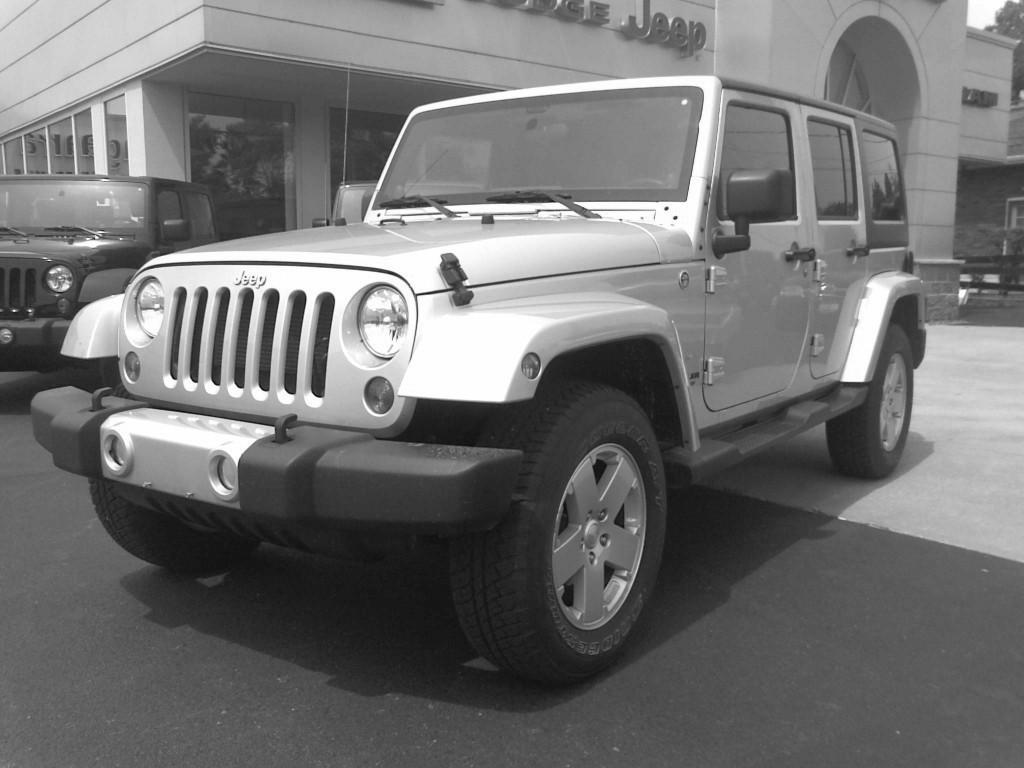car: (18, 57, 903, 686)
